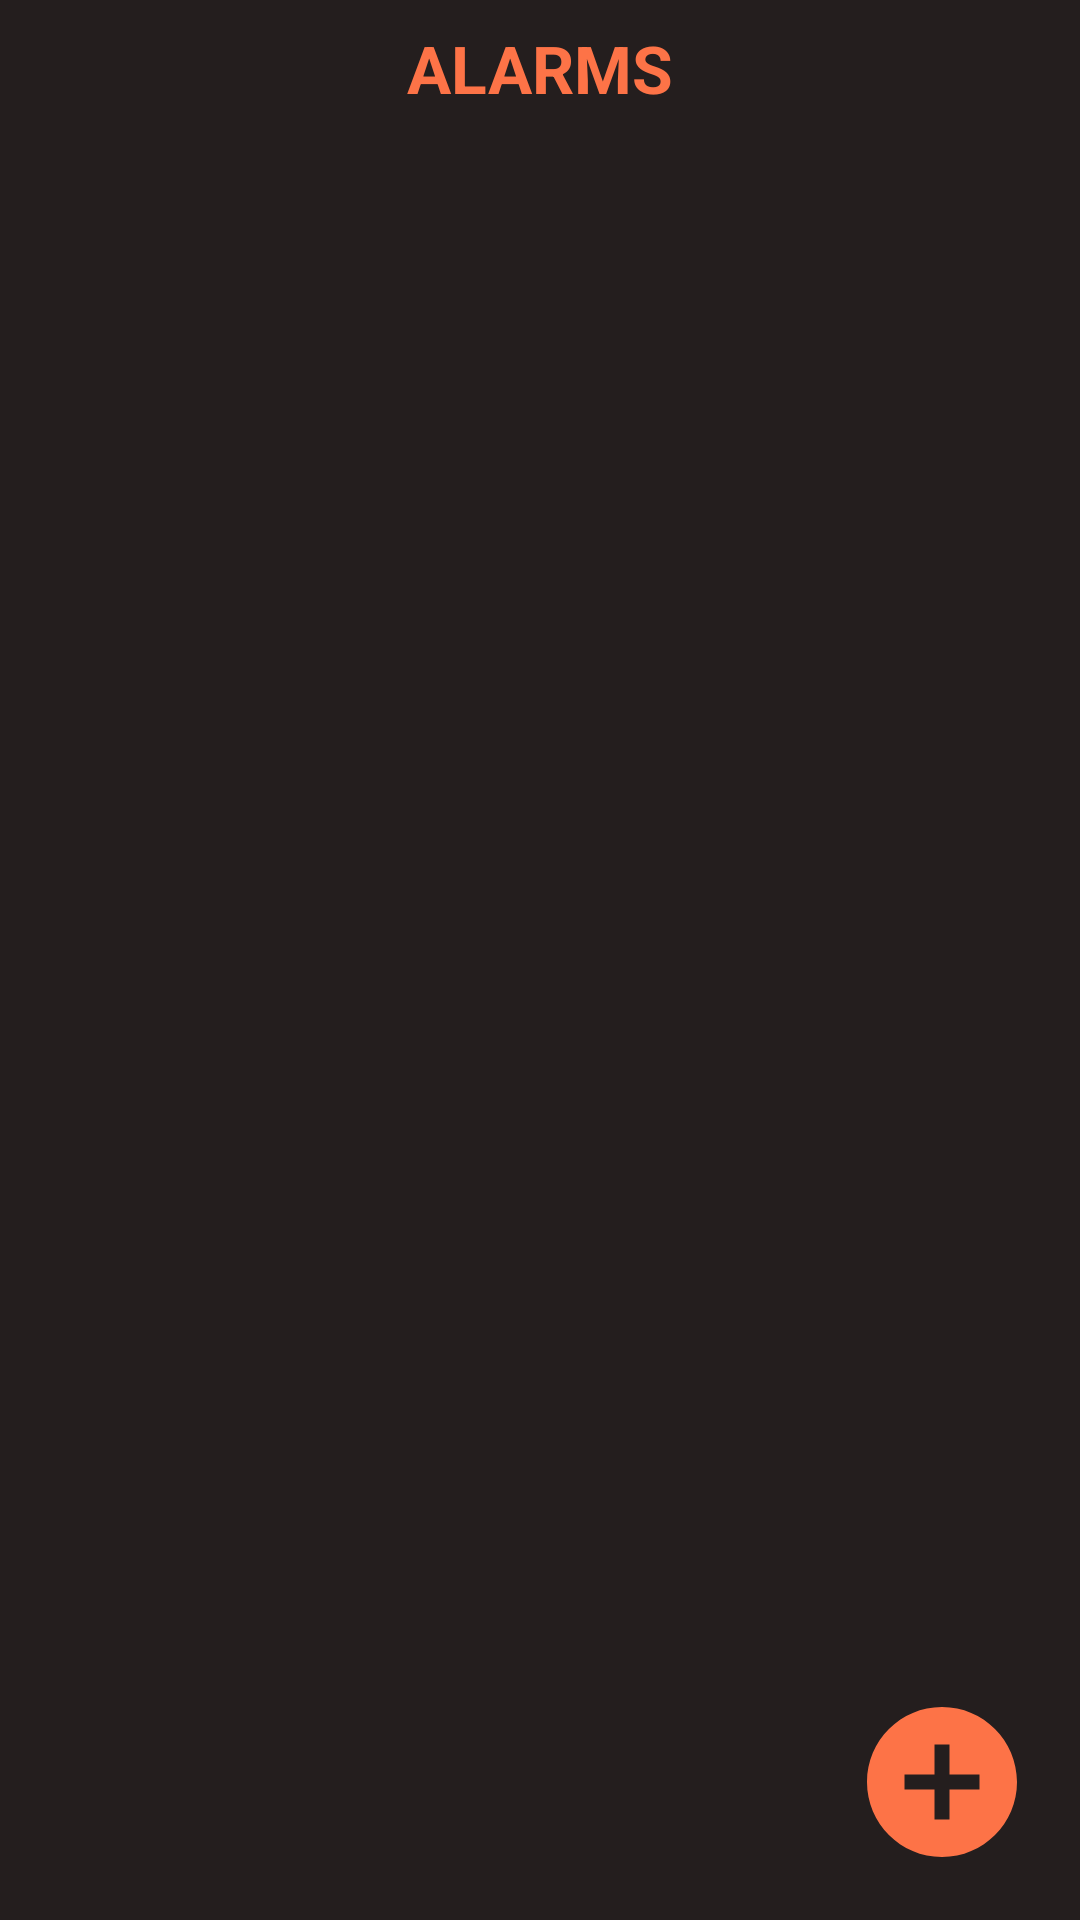

Named icons in this screenshot (1080w x 1920h) and their bounding boxes, bbox=(x1, y1, x2, y2):
add circle: bbox=(867, 1707, 1017, 1857)
